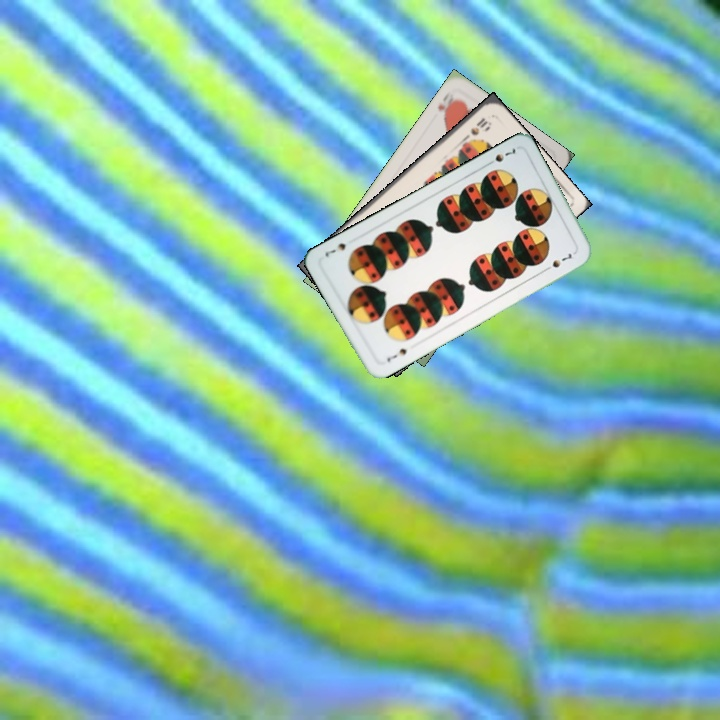HO: (433, 87, 459, 122)
S10: (459, 114, 493, 143)
S7: (482, 144, 518, 168), (383, 344, 412, 365)
